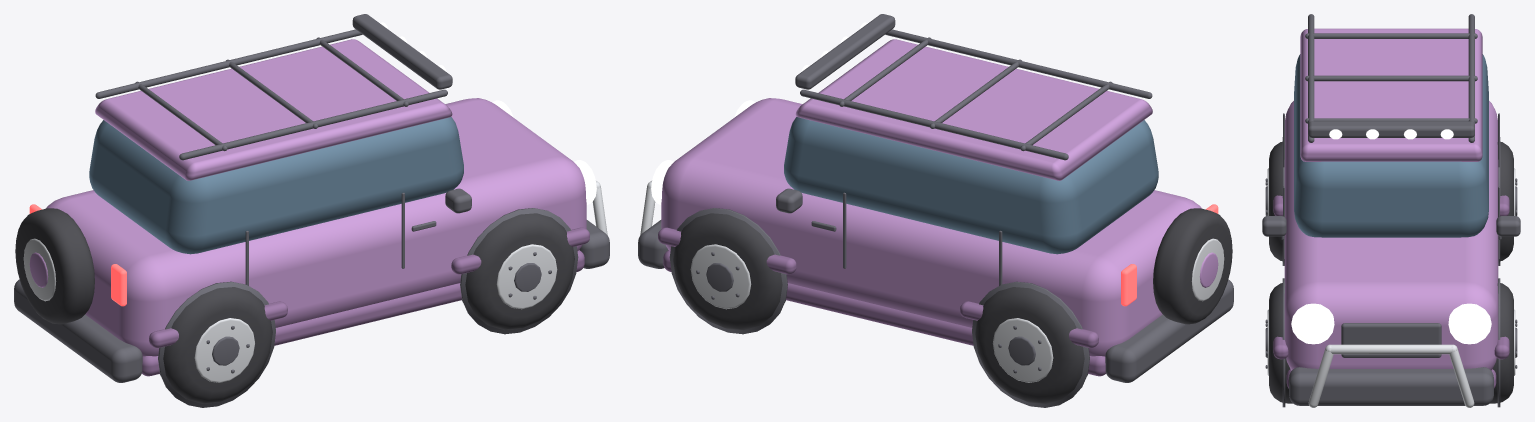
The model's file is vehicle_suv.glb.
The picture shows the model from 3 angles, left to right: view 1: azimuth 30°, elevation 25°; view 2: azimuth 150°, elevation 25°; view 3: azimuth 270°, elevation 25°; orthographic projection. The views are drawn at different scales.
Visible parts, largest first — view 1: vehicle_suv; view 2: vehicle_suv; view 3: vehicle_suv.
Boxes of the visible parts, x1=… form: vehicle_suv: x1=14, y1=14, x2=609, y2=407; vehicle_suv: x1=638, y1=14, x2=1233, y2=407; vehicle_suv: x1=1262, y1=14, x2=1520, y2=407.
Bounding box in the file's own units: 5.27 × 2.47 × 2.32.
